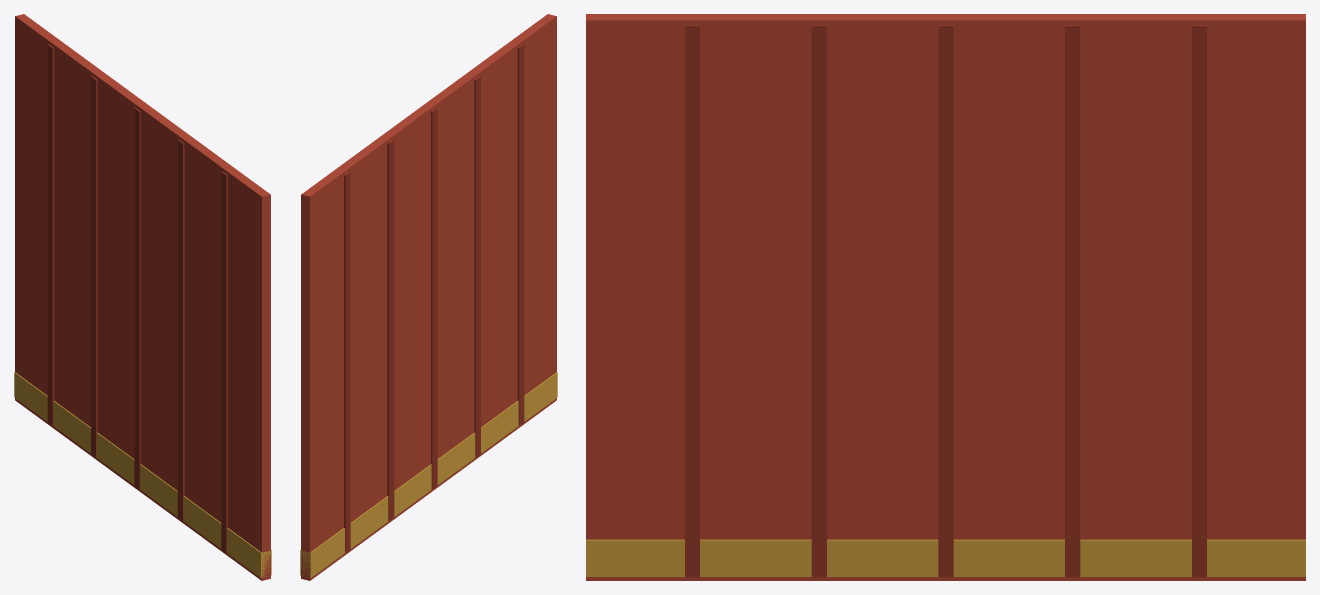
Rendered from curtain.glb.
The picture shows the model from 3 angles, left to right: view 1: azimuth 30°, elevation 25°; view 2: azimuth 150°, elevation 25°; view 3: azimuth 270°, elevation 25°; orthographic projection. The views are drawn at different scales.
Visible parts, largest first — view 1: #b84a34_noshadow, #9a3a2a_noshadow, #d8a840_noshadow; view 2: #b84a34_noshadow, #9a3a2a_noshadow, #d8a840_noshadow; view 3: #b84a34_noshadow, #9a3a2a_noshadow, #d8a840_noshadow.
Part boxes in pixels (box(x1,y1,x2,y2)): #b84a34_noshadow: box(15, 14, 270, 580); #9a3a2a_noshadow: box(47, 44, 227, 553); #d8a840_noshadow: box(14, 372, 271, 577); #b84a34_noshadow: box(301, 14, 556, 580); #9a3a2a_noshadow: box(344, 44, 524, 553); #d8a840_noshadow: box(300, 372, 557, 577); #b84a34_noshadow: box(586, 14, 1305, 580); #9a3a2a_noshadow: box(685, 25, 1206, 577); #d8a840_noshadow: box(586, 539, 1305, 576).
Bounding box in the file's own units: 0.04 × 1.22 × 1.42.
